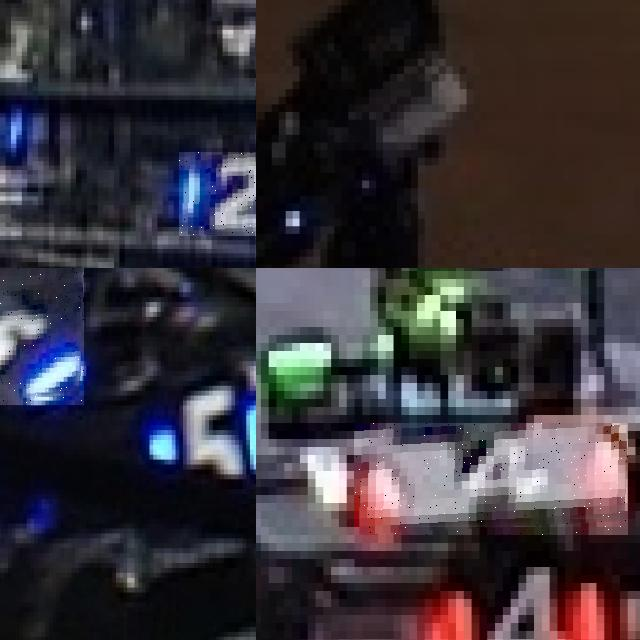B2: (179, 152, 256, 235)
B5: (136, 368, 256, 491), (0, 268, 84, 405)
R4: (354, 423, 628, 535), (440, 559, 611, 640)
